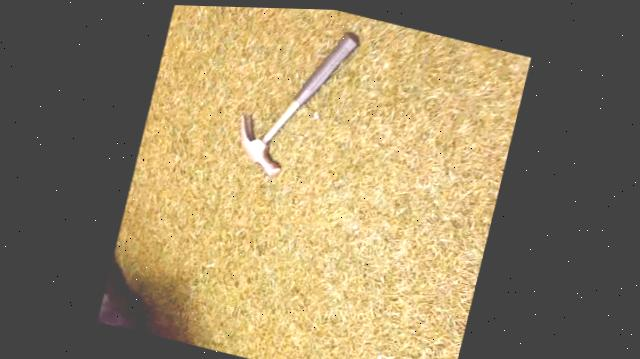hammer: (206, 5, 374, 209)
